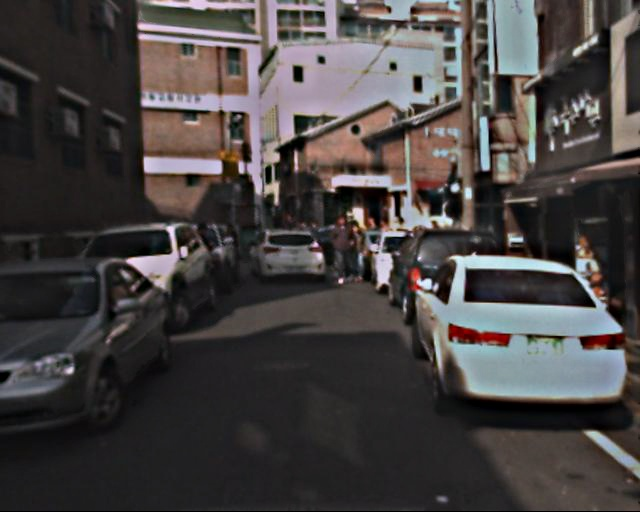person: (326, 215, 355, 286), (344, 220, 370, 284)
